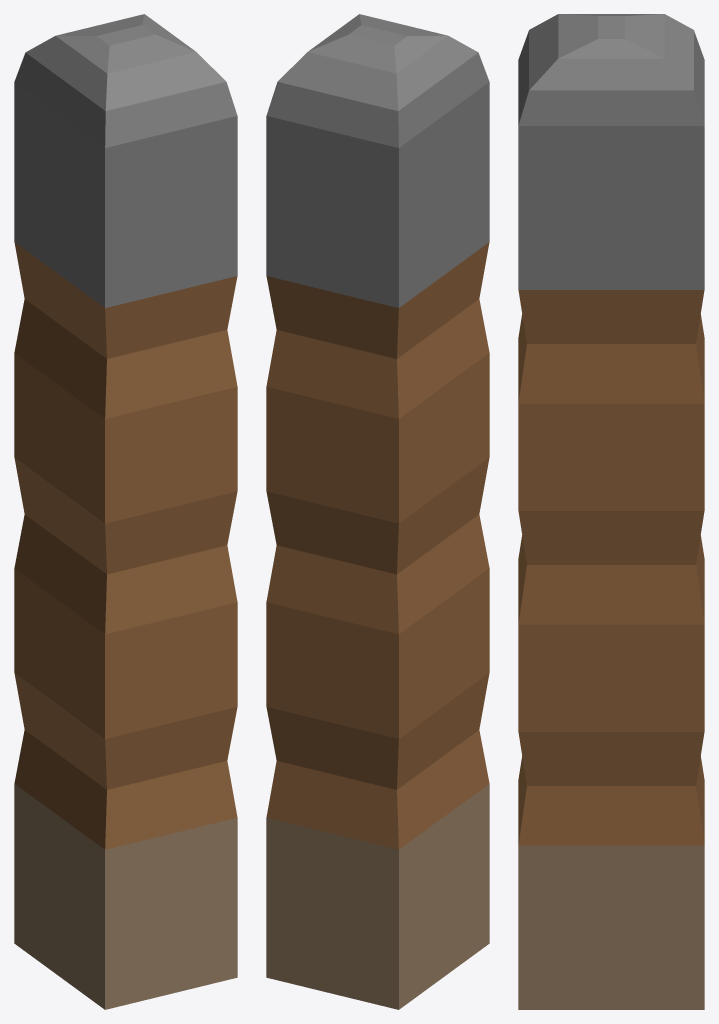
The model's file is Lever.fbx.
The picture shows the model from 3 angles, left to right: view 1: azimuth 30°, elevation 25°; view 2: azimuth 150°, elevation 25°; view 3: azimuth 270°, elevation 25°; orthographic projection. The views are drawn at different scales.
Visible parts, largest first — view 1: Lever; view 2: Lever; view 3: Lever.
Part boxes in pixels (box(x1,y1,x2,y2)): Lever: box(14, 14, 237, 1009); Lever: box(266, 14, 489, 1009); Lever: box(518, 14, 704, 1009).
Bounding box in the file's own units: 44.5 × 297 × 52.77.
